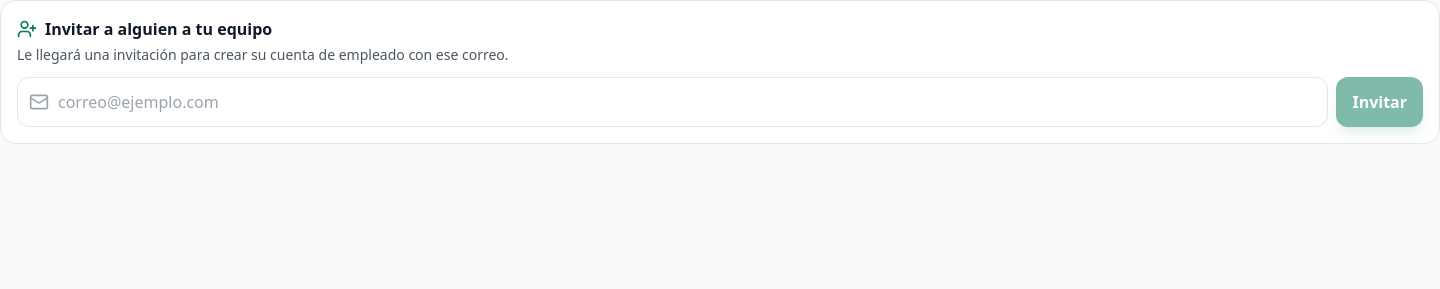
Test: InviteMemberCard › en el panel de equipo (tarjeta de siempre) › si el correo no sale, lo dice y deja el enlace para mandarlo a mano
This screenshot has width=1440, height=289.
Type "ana@correo.com" into the field named "Correo de la persona". click: (673, 102)
box: top-left (17, 77), bottom-right (1328, 127)
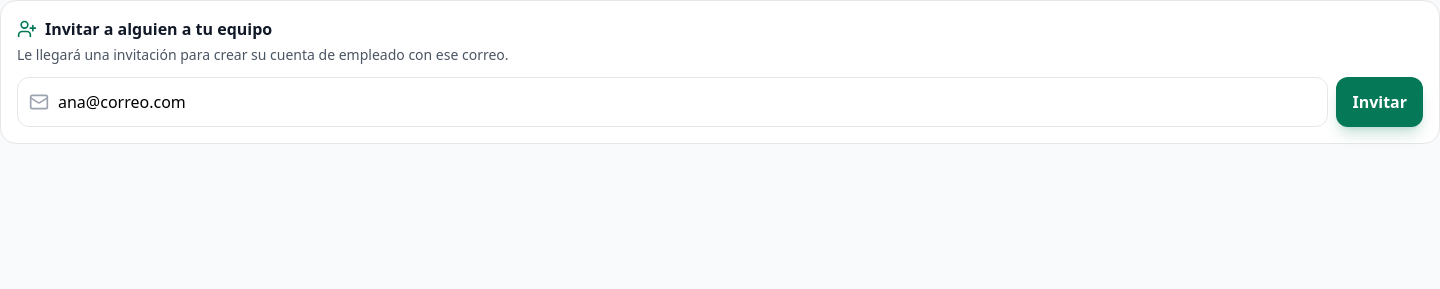
Click the button "Invitar". click: (1380, 102)
box: top-left (1336, 77), bottom-right (1423, 127)
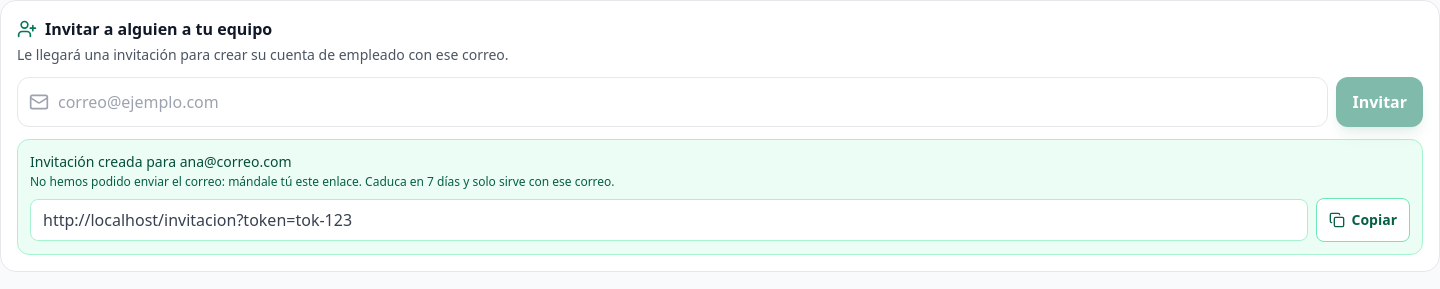
Now the text "Invitación creada para ana@correo.com" is shown, box top-left (30, 152), bottom-right (292, 171)
Now the text "No hemos podido enviar el correo" is shown, box top-left (30, 173), bottom-right (615, 190)
